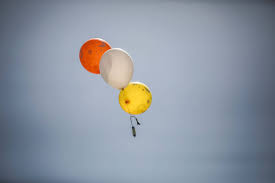Balloon: (100, 48, 133, 89), (80, 38, 111, 74), (119, 82, 152, 114)
